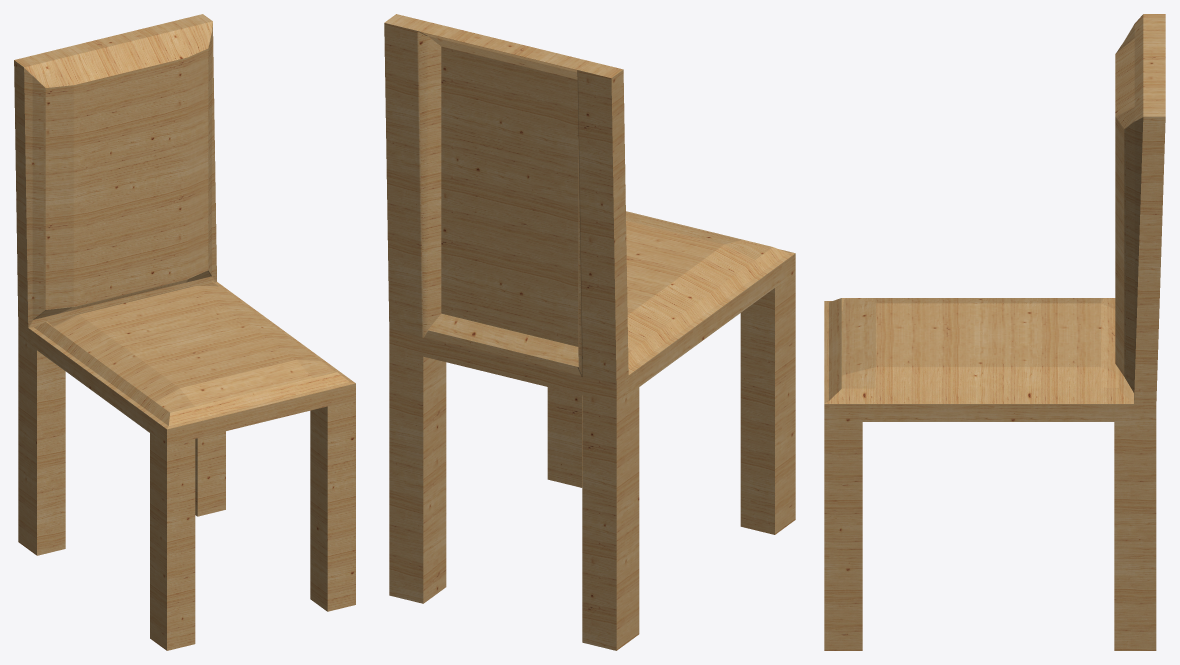
File: DeskChair.fbx
The picture shows the model from 3 angles, left to right: view 1: azimuth 30°, elevation 25°; view 2: azimuth 150°, elevation 25°; view 3: azimuth 270°, elevation 25°; orthographic projection. The views are drawn at different scales.
Parts seen in each view (by area): view 1: DiningRoomChair1; view 2: DiningRoomChair1; view 3: DiningRoomChair1.
Part boxes in pixels (left/top/right/bottom): DiningRoomChair1: left=14, top=14, right=355, bottom=650; DiningRoomChair1: left=384, top=14, right=795, bottom=650; DiningRoomChair1: left=824, top=14, right=1165, bottom=650.
Size of the model in its own units: 1.77 by 4.28 by 2.48.
Materials: 1 (1 with a texture image).
